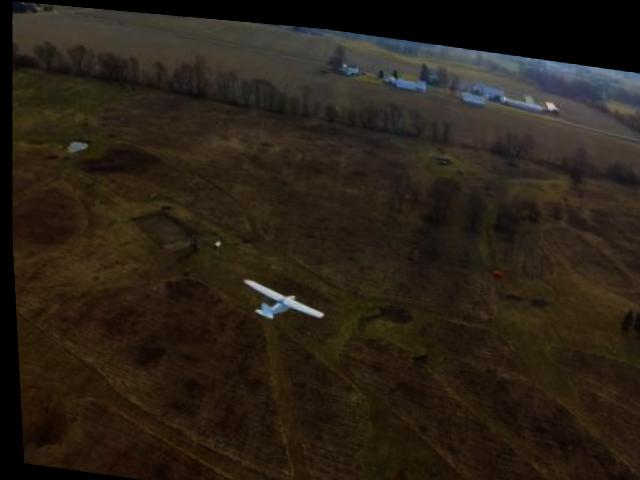uav: (230, 267, 331, 335)
